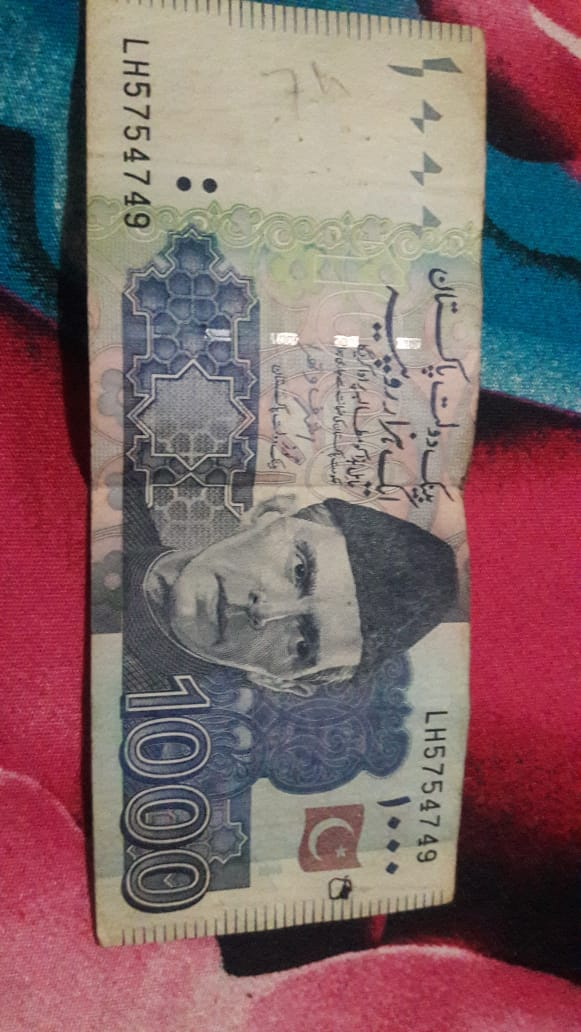1000 rupee: (67, 13, 486, 953)
